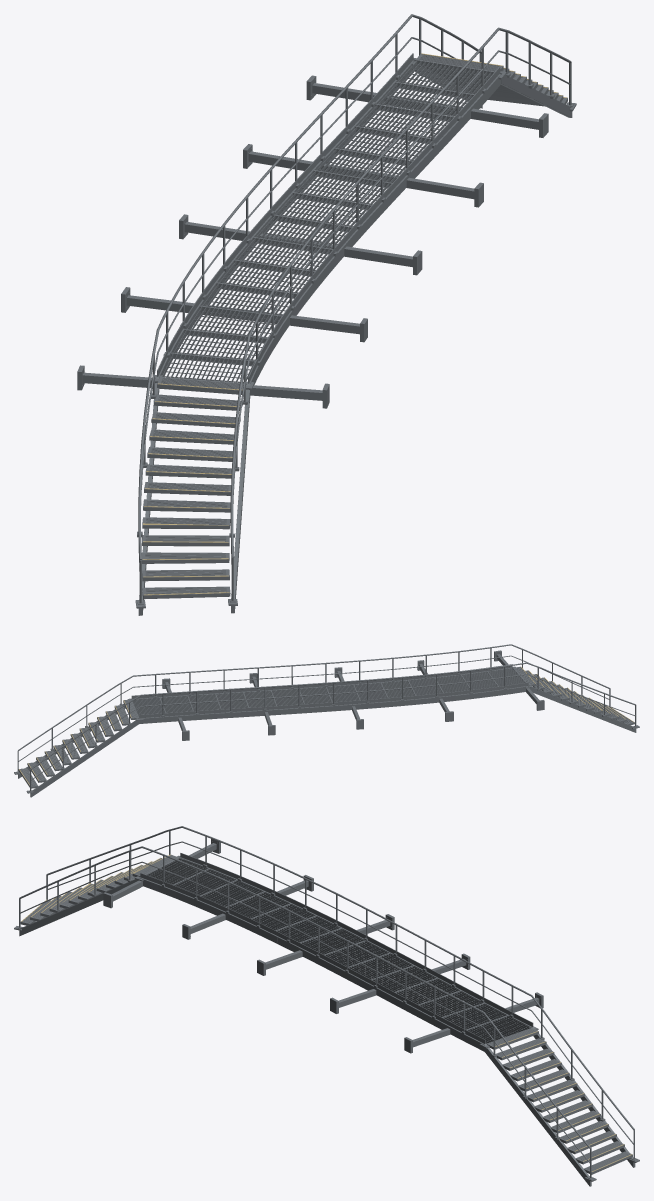
Rendered from BD_T01_UpperWalk_LOD1.fbx.
The picture shows the model from 3 angles, top to bottom: view 1: azimuth 30°, elevation 25°; view 2: azimuth 150°, elevation 25°; view 3: azimuth 270°, elevation 25°; orthographic projection. The views are drawn at different scales.
Visible parts, largest first — view 1: BD_T01_UpperWalk_LOD1; view 2: BD_T01_UpperWalk_LOD1; view 3: BD_T01_UpperWalk_LOD1.
Boxes of the visible parts, x1,y1,x2,y2 form: BD_T01_UpperWalk_LOD1: (77,14,576,615); BD_T01_UpperWalk_LOD1: (14,644,639,797); BD_T01_UpperWalk_LOD1: (14,826,639,1186).
Size of the model in its own units: 1672 by 350 by 1588.
